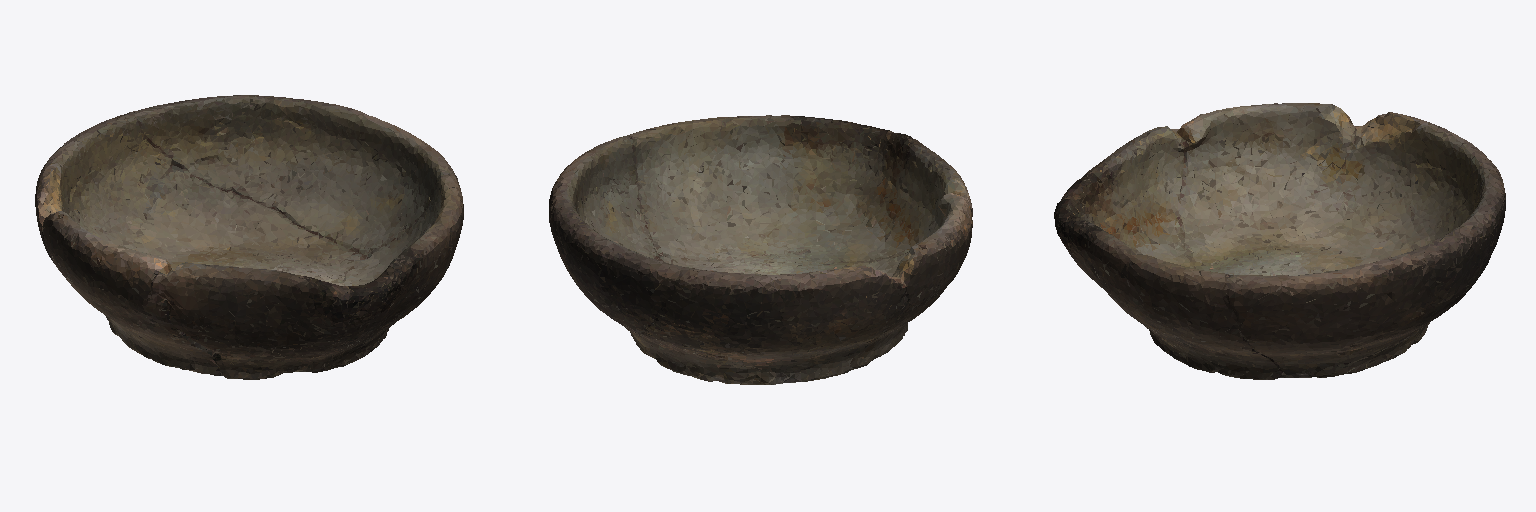
3 renders of one model, left to right at view 1: azimuth 30°, elevation 25°; view 2: azimuth 150°, elevation 25°; view 3: azimuth 270°, elevation 25°, orthographic.
Parts seen in each view (by area): view 1: luce2; view 2: luce2; view 3: luce2.
Boxes of the visible parts, <box> form: luce2: <box>35,95,463,379</box>; luce2: <box>549,115,972,384</box>; luce2: <box>1054,103,1505,379</box>.
Bounding box in the file's own units: 0.8304 × 0.3069 × 0.8772.
Materials: 1 (1 with a texture image).